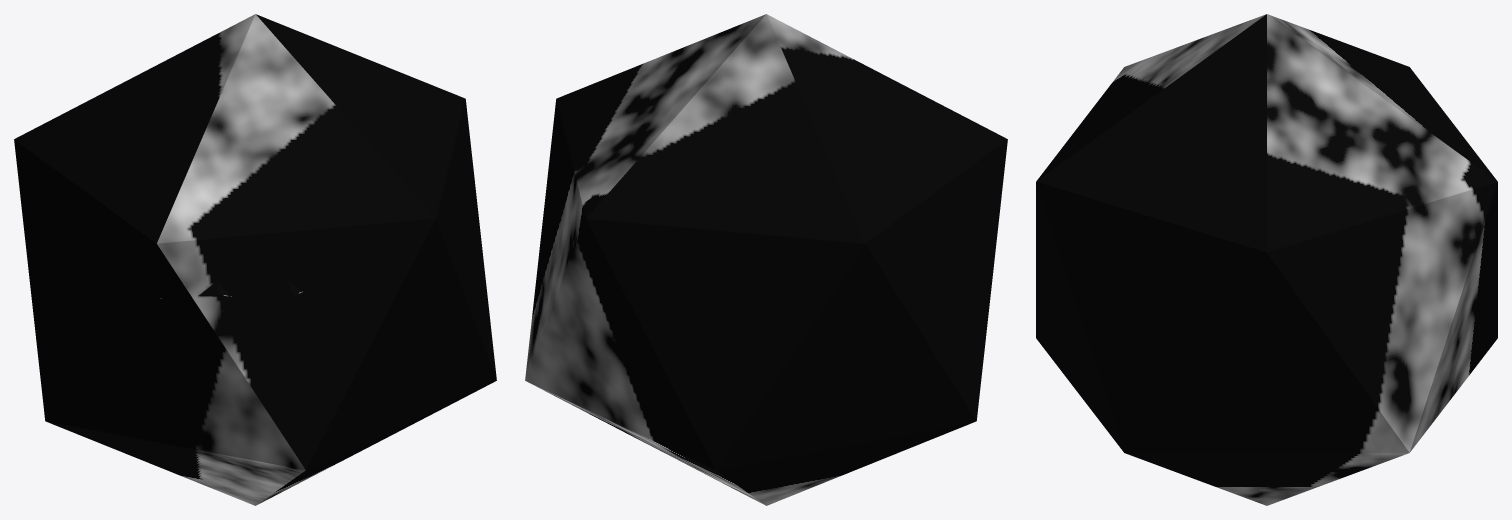
File: iron_ore.glb
The picture shows the model from 3 angles, left to right: view 1: azimuth 30°, elevation 25°; view 2: azimuth 150°, elevation 25°; view 3: azimuth 270°, elevation 25°; orthographic projection.
Visible parts, largest first — view 1: iron_ore; view 2: iron_ore; view 3: iron_ore.
Boxes of the visible parts, x1=… form: iron_ore: x1=14, y1=14, x2=496, y2=505; iron_ore: x1=525, y1=14, x2=1007, y2=505; iron_ore: x1=1036, y1=14, x2=1497, y2=505.
Size of the model in its own units: 0.2683 by 0.3 by 0.2552.
1 material, 1 textured.
